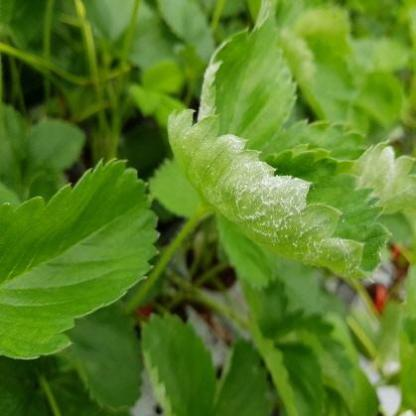Strawberry_Powdery_Mildew_Leaf: (167, 108, 395, 284), (197, 0, 298, 151), (349, 140, 415, 214)
